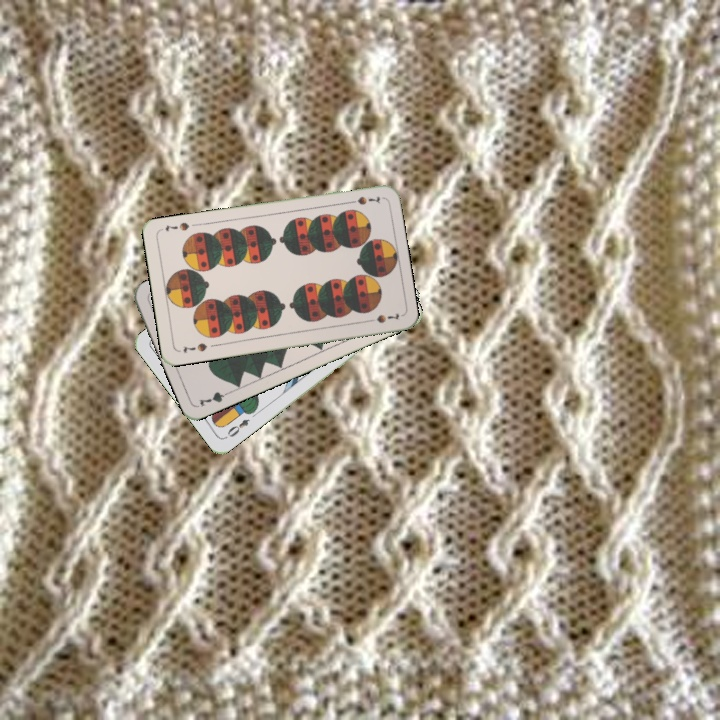EO: (223, 415, 252, 440)
G7: (194, 386, 234, 410)
S7: (343, 192, 383, 207), (179, 339, 209, 355)
